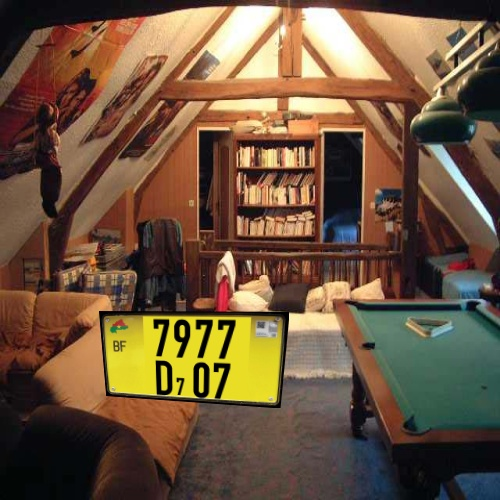plate: (94, 302, 303, 421)
